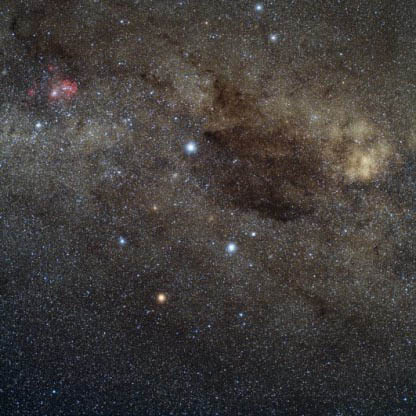Southern Cross: (179, 130, 203, 162), (112, 232, 137, 258), (151, 283, 174, 308), (220, 235, 240, 260)
